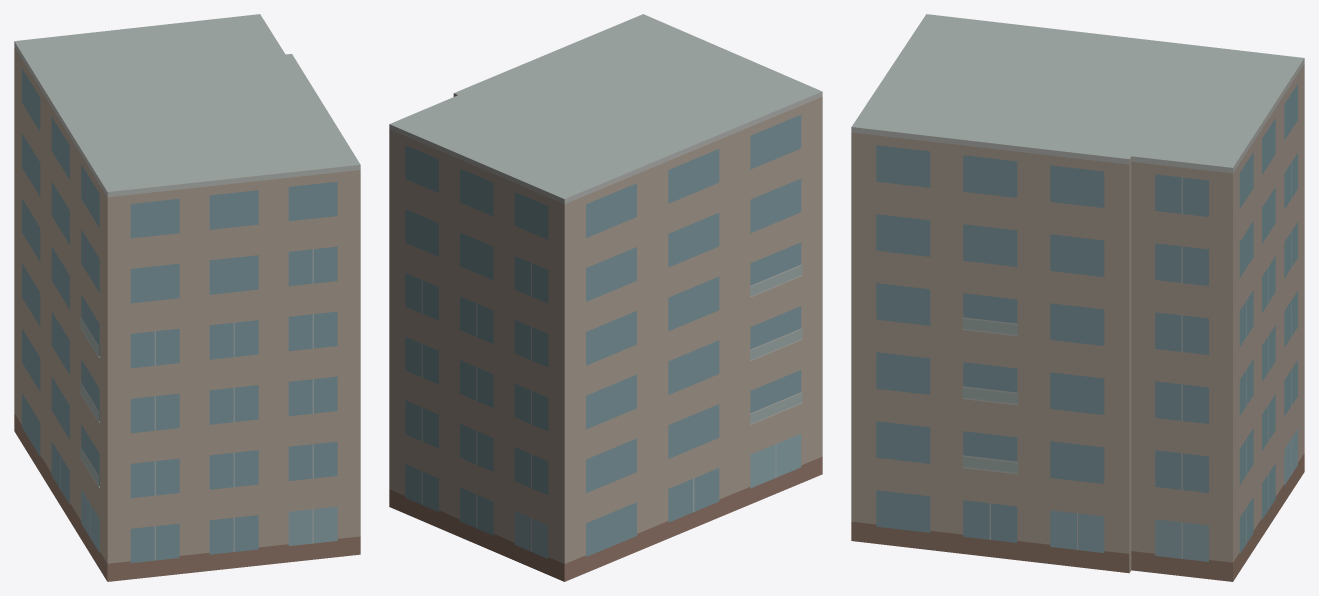
File: survey-upis-32730767.glb
The picture shows the model from 3 angles, left to right: view 1: azimuth 30°, elevation 25°; view 2: azimuth 150°, elevation 25°; view 3: azimuth 270°, elevation 25°; orthographic projection. The views are drawn at different scales.
Parts seen in each view (by area): view 1: survey-upis-32730767.tmp; view 2: survey-upis-32730767.tmp; view 3: survey-upis-32730767.tmp.
Part boxes in pixels (x1,y1,x2,y2): survey-upis-32730767.tmp: (14, 14, 360, 581); survey-upis-32730767.tmp: (389, 14, 822, 581); survey-upis-32730767.tmp: (851, 14, 1304, 581).
Bounding box in the file's own units: 14.6 × 18.3 × 18.16.
